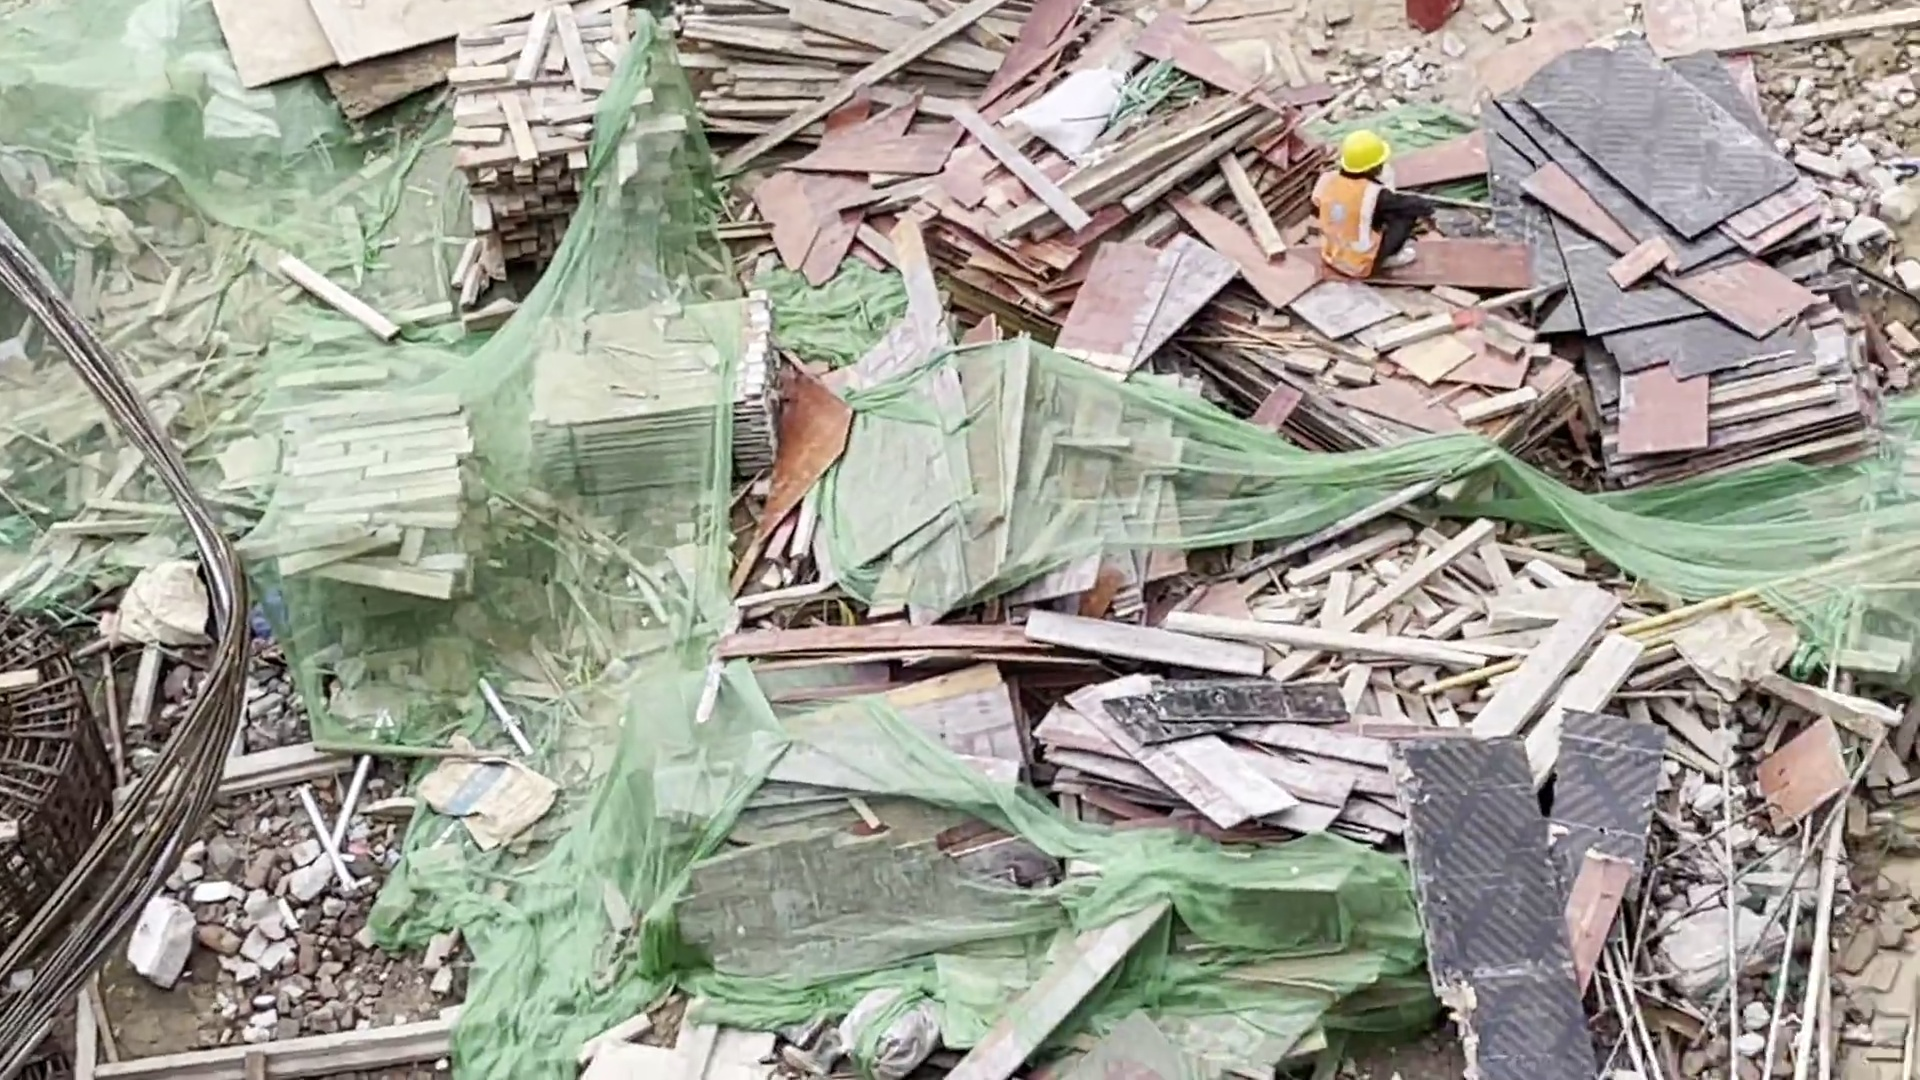board: (1524, 77, 1819, 464), (527, 320, 777, 462)
helmet: (1332, 133, 1391, 176)
person: (1308, 132, 1425, 281)
rebar: (2, 219, 247, 641), (3, 639, 235, 1078)
vest: (1312, 175, 1376, 282)
wood: (450, 37, 643, 268), (276, 424, 485, 625)
